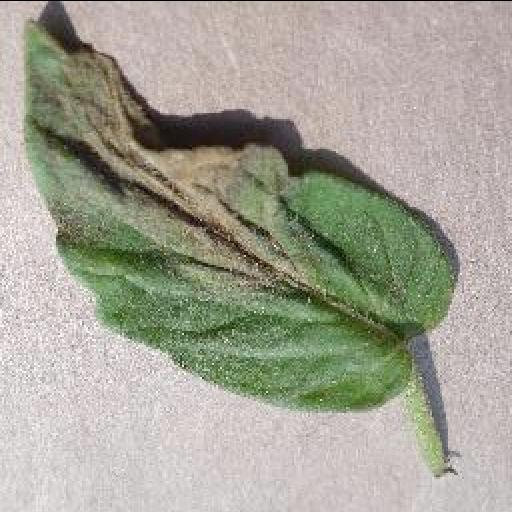disease_tomato: (15, 14, 461, 410)
